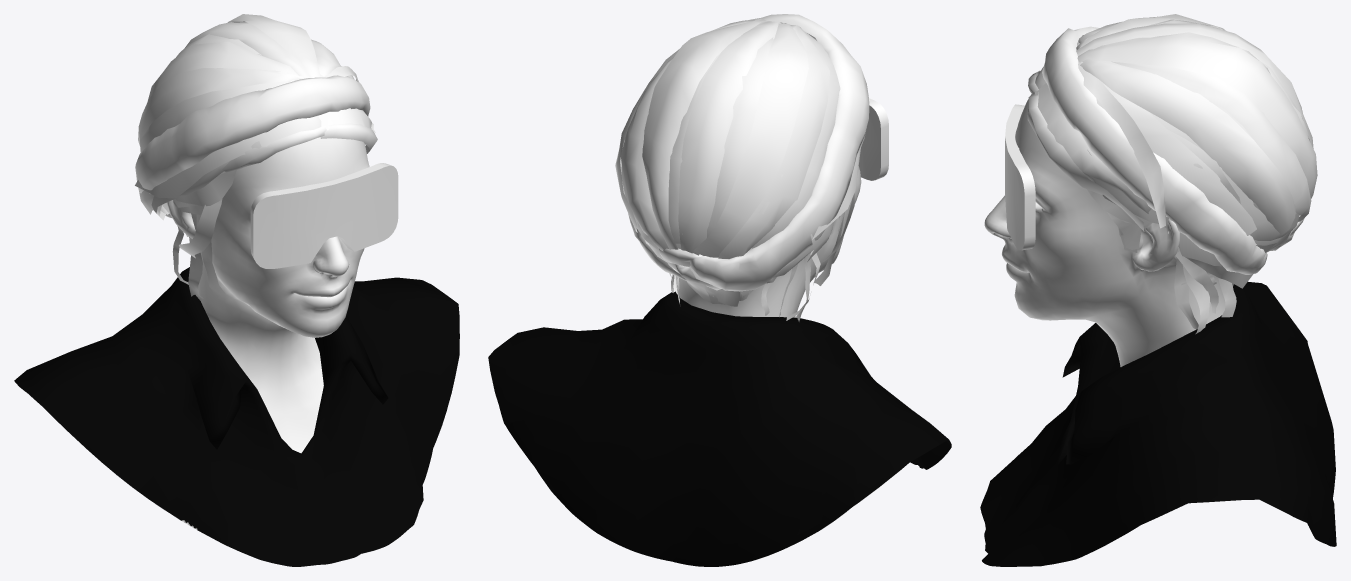
Rendered from OldWomanMask.fbx.
The picture shows the model from 3 angles, left to right: view 1: azimuth 30°, elevation 25°; view 2: azimuth 150°, elevation 25°; view 3: azimuth 270°, elevation 25°; orthographic projection. The views are drawn at different scales.
Visible parts, largest first — view 1: Cube; view 2: Cube; view 3: Cube.
Part boxes in pixels (x1,y1,x2,y2): Cube: [14, 14, 459, 566]; Cube: [488, 14, 951, 566]; Cube: [980, 14, 1336, 566].
Size of the model in its own units: 38.12 by 40.93 by 25.68.
1 material, 1 textured.
